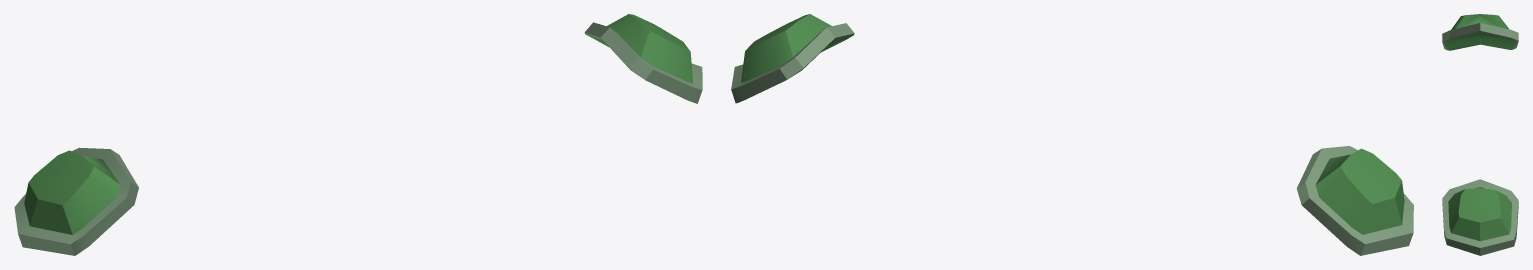
File: GenbuWeapon.fbx
The picture shows the model from 3 angles, left to right: view 1: azimuth 30°, elevation 25°; view 2: azimuth 150°, elevation 25°; view 3: azimuth 270°, elevation 25°; orthographic projection. The views are drawn at different scales.
Visible parts, largest first — view 1: Plane.003, Plane.007; view 2: Plane.003, Plane.007; view 3: Plane.007, Plane.003.
Part boxes in pixels (x1,y1,x2,y2): Plane.003: (14, 147, 138, 255); Plane.007: (584, 14, 702, 103); Plane.003: (1296, 146, 1413, 255); Plane.007: (731, 14, 854, 103); Plane.007: (1442, 179, 1518, 255); Plane.003: (1442, 14, 1518, 50).
Size of the model in its own units: 0.9112 by 0.0978 by 0.1378.
